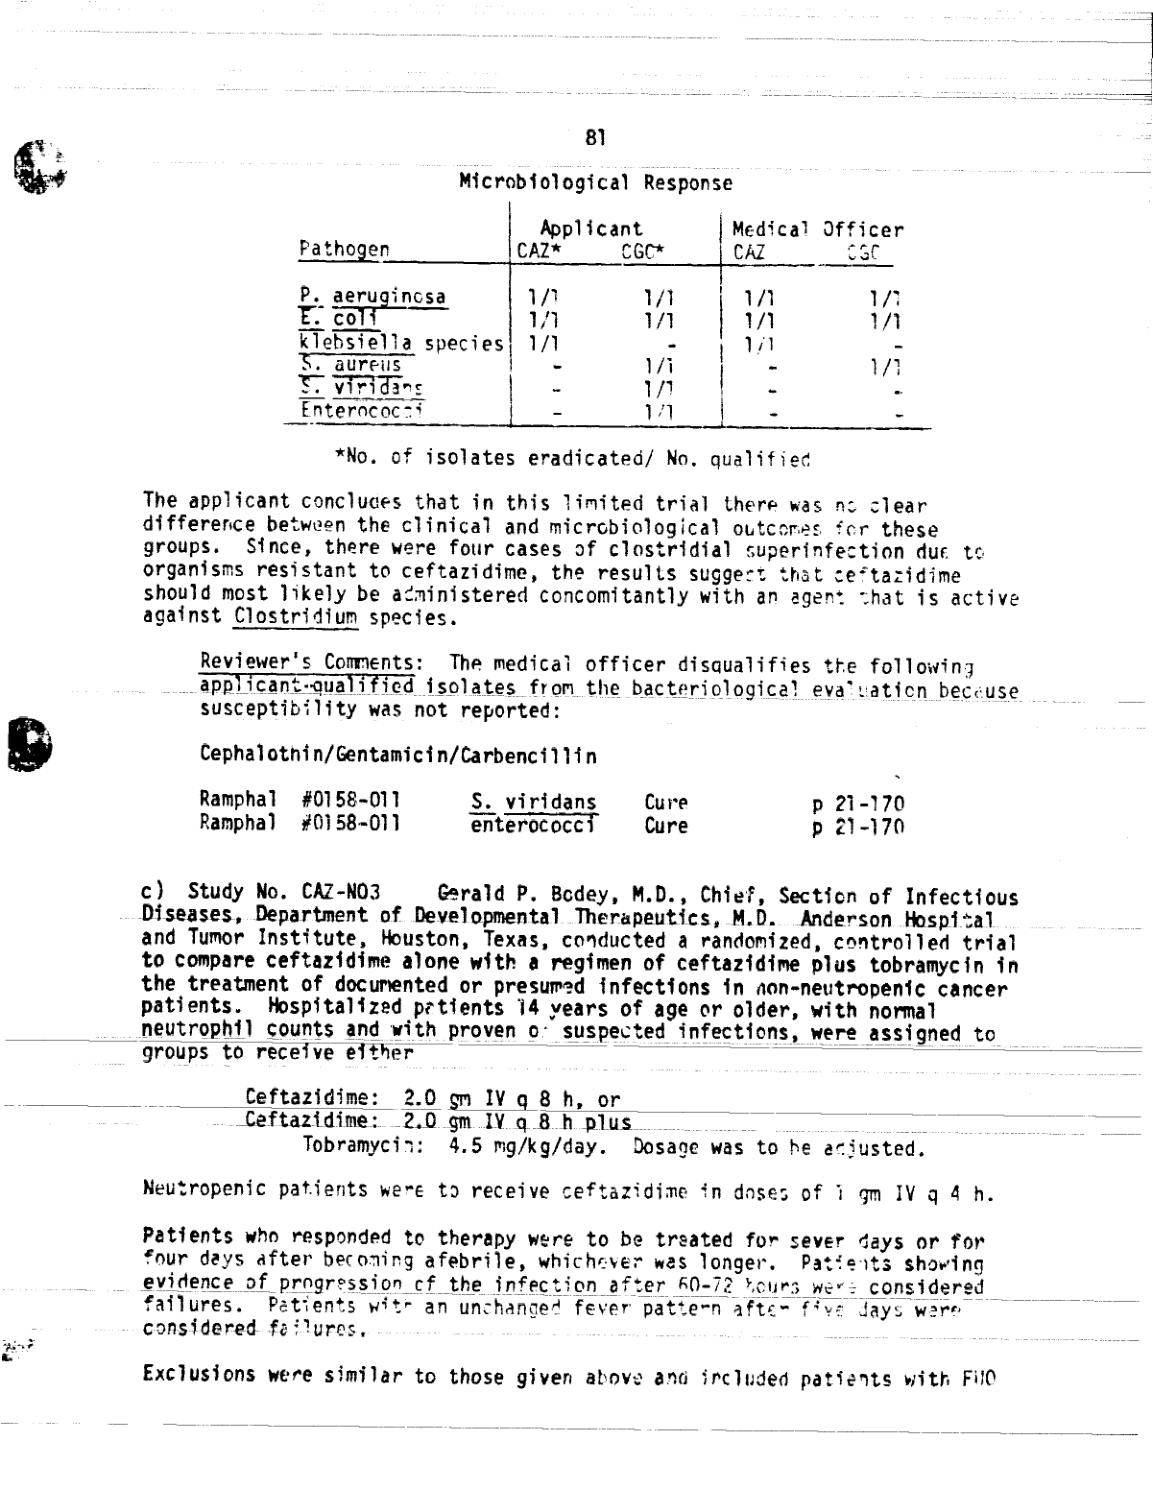nolines: (198, 784, 906, 840)
partial_lined_merged_cells: (286, 212, 935, 431)
